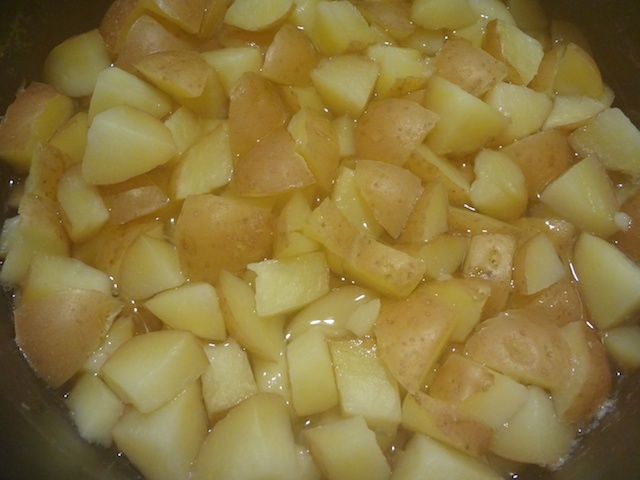boiled potatoes: (68, 24, 592, 453)
